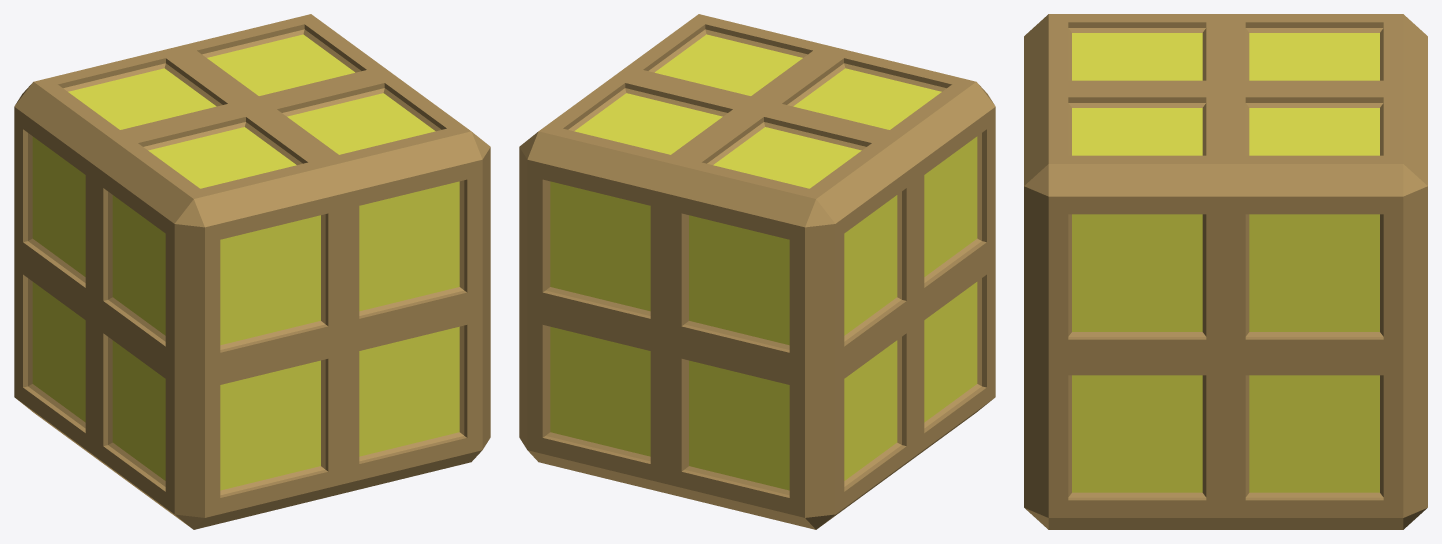
3 views of the same model, side by side, from view 1: azimuth 30°, elevation 25°; view 2: azimuth 150°, elevation 25°; view 3: azimuth 270°, elevation 25° (orthographic). The views are drawn at different scales.
Visible parts, largest first — view 1: Cube; view 2: Cube; view 3: Cube.
Part boxes in pixels (bbox=[...]): Cube: bbox=[14, 14, 490, 529]; Cube: bbox=[519, 14, 995, 529]; Cube: bbox=[1024, 14, 1427, 529].
Bounding box in the file's own units: 1 × 1 × 1.
